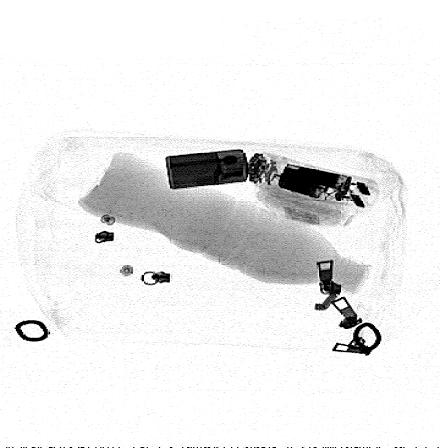Lighter: (164, 149, 250, 190)
